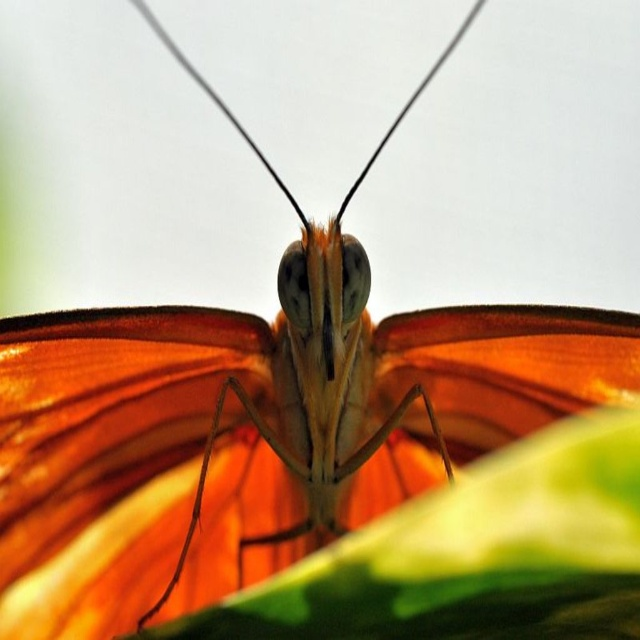Butterfly: (66, 46, 617, 624)
